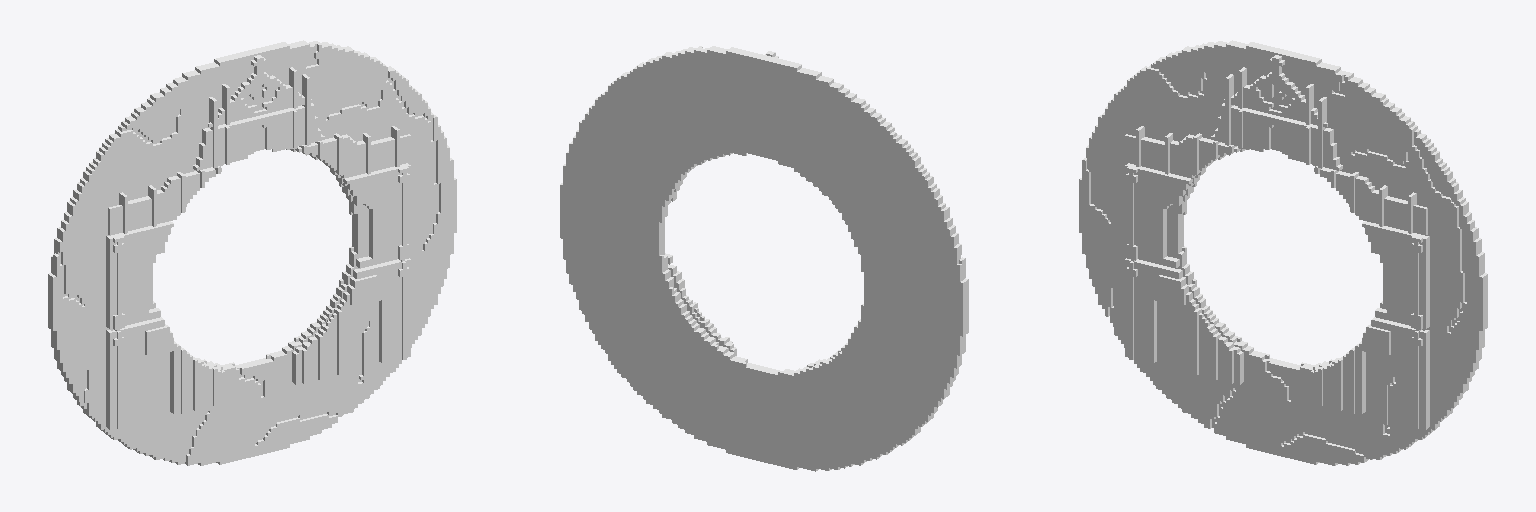
The model's file is stpaulchurchpiece1-1.obj.
3 views of the same model, side by side, from view 1: azimuth 30°, elevation 25°; view 2: azimuth 150°, elevation 25°; view 3: azimuth 330°, elevation 25° (orthographic).
Parts seen in each view (by area): view 1: object 1; view 2: object 1; view 3: object 1.
Boxes of the visible parts, x1=… form: object 1: x1=48, y1=40, x2=456, y2=465; object 1: x1=560, y1=46, x2=968, y2=471; object 1: x1=1079, y1=40, x2=1487, y2=465.
Size of the model in its own units: 12.6 by 12 by 0.7.